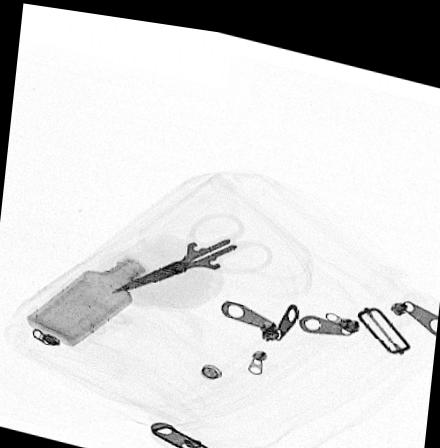Scissors: (104, 203, 275, 292)
